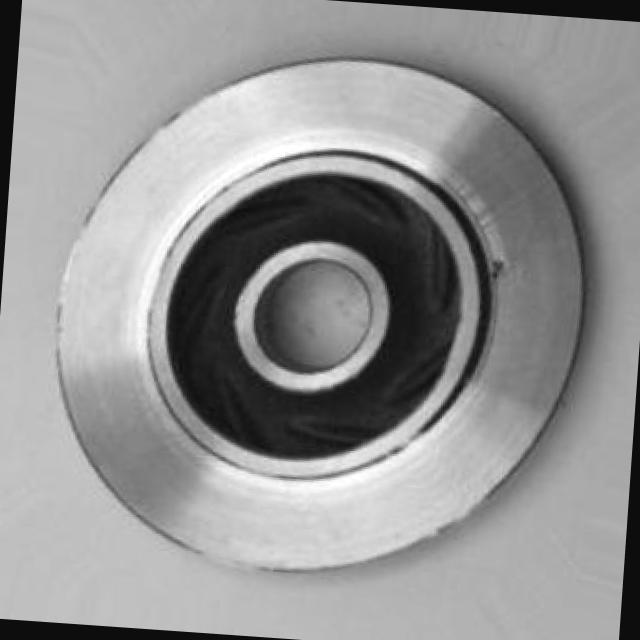Defect: (482, 252, 514, 282)
